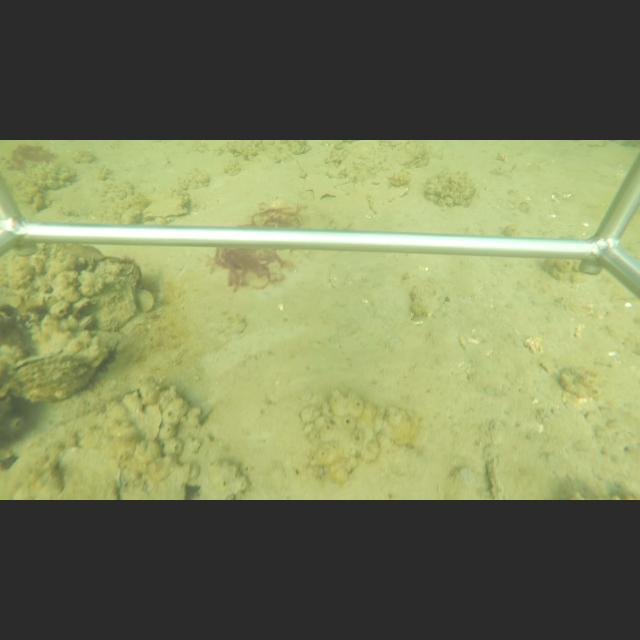Oyster-Closed: (8, 352, 101, 403), (122, 388, 164, 441), (409, 276, 447, 323), (139, 195, 190, 221)
